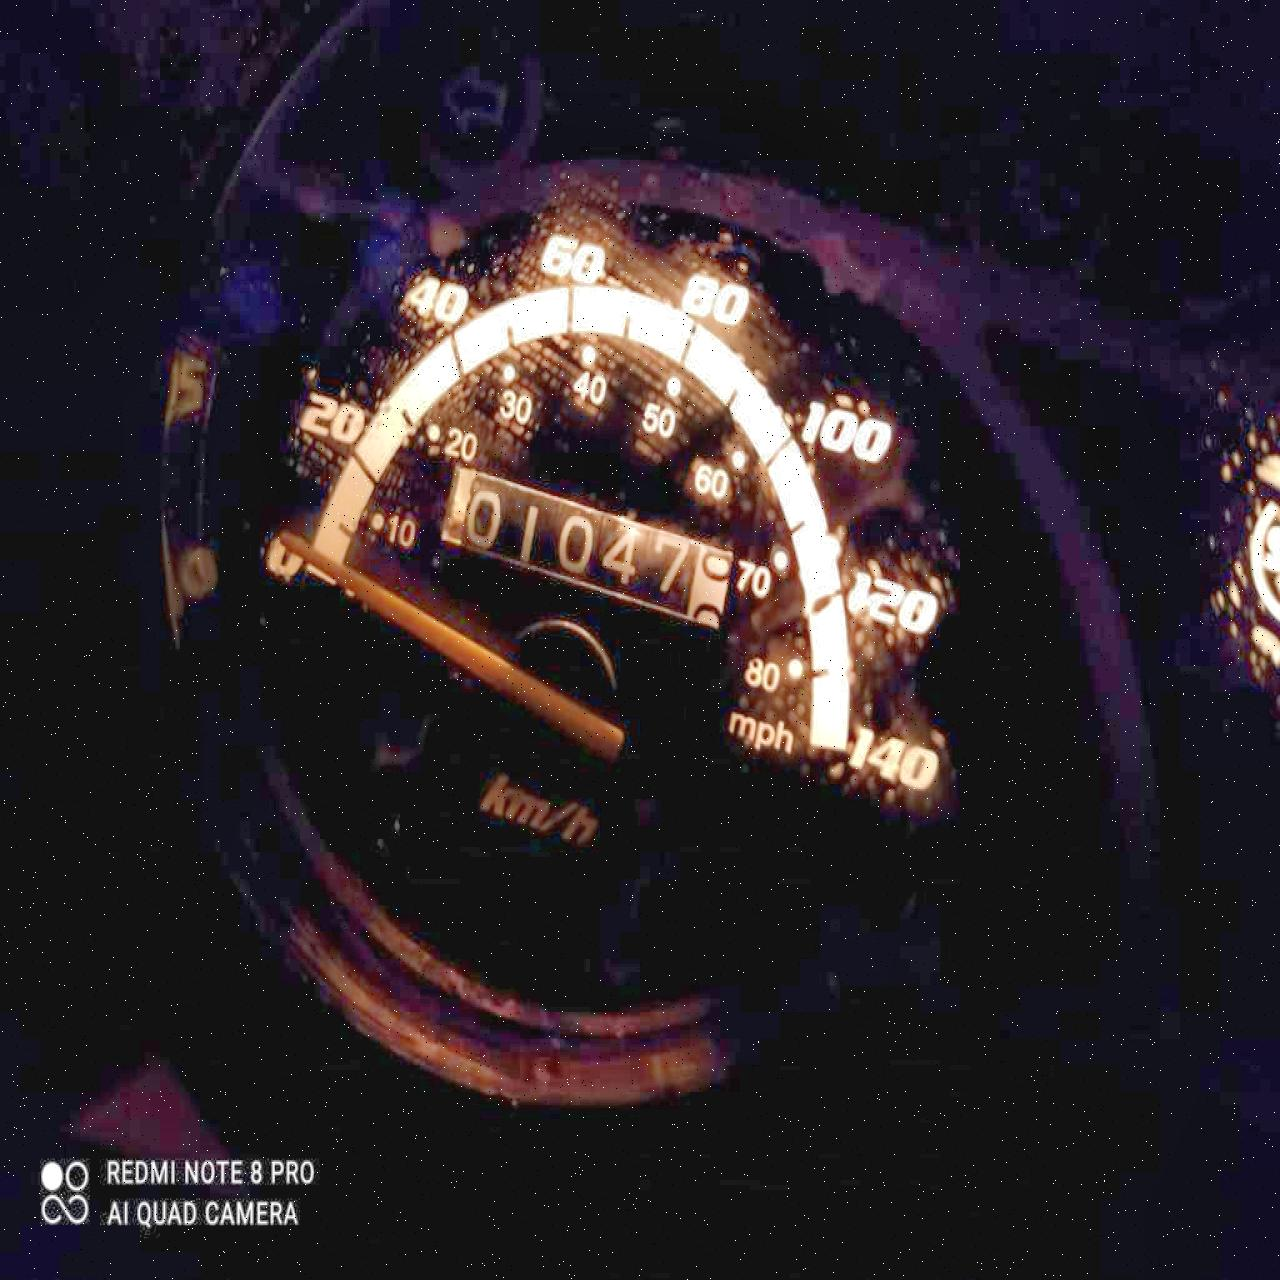0: (554, 501, 595, 579), (465, 483, 501, 550), (713, 462, 727, 503)
1: (517, 486, 542, 568)
4: (602, 519, 640, 591)
6: (693, 462, 710, 492)
7: (653, 520, 687, 599)
8: (700, 536, 731, 595)
odometer: (441, 455, 737, 659)
